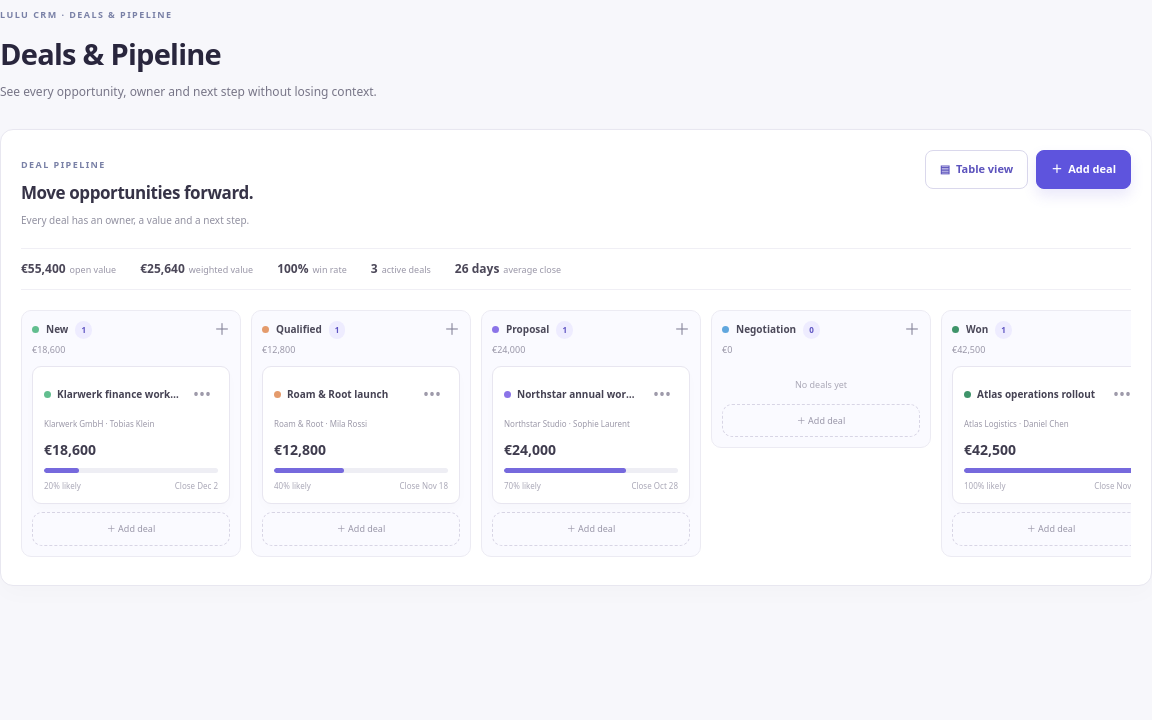
Deals & Pipeline page › adds a deal to the column it was started from
The image size is (1152, 720).
Expected: the element "Proposal" is shown, [481,310,701,557]
Click the button named "Add deal to Proposal" at (682, 329), box [674,321,690,337]
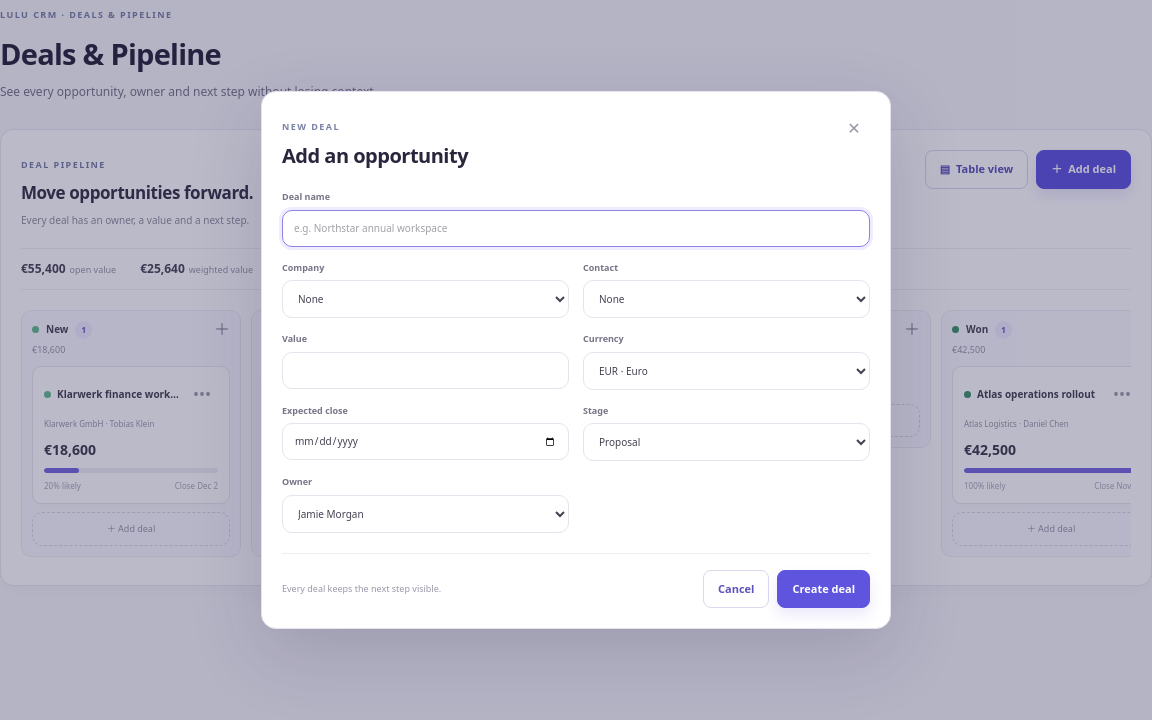
# Validation first: nothing is sent without a name and a value.
Click the button "Create deal" at (824, 589), box [778,570,870,608]
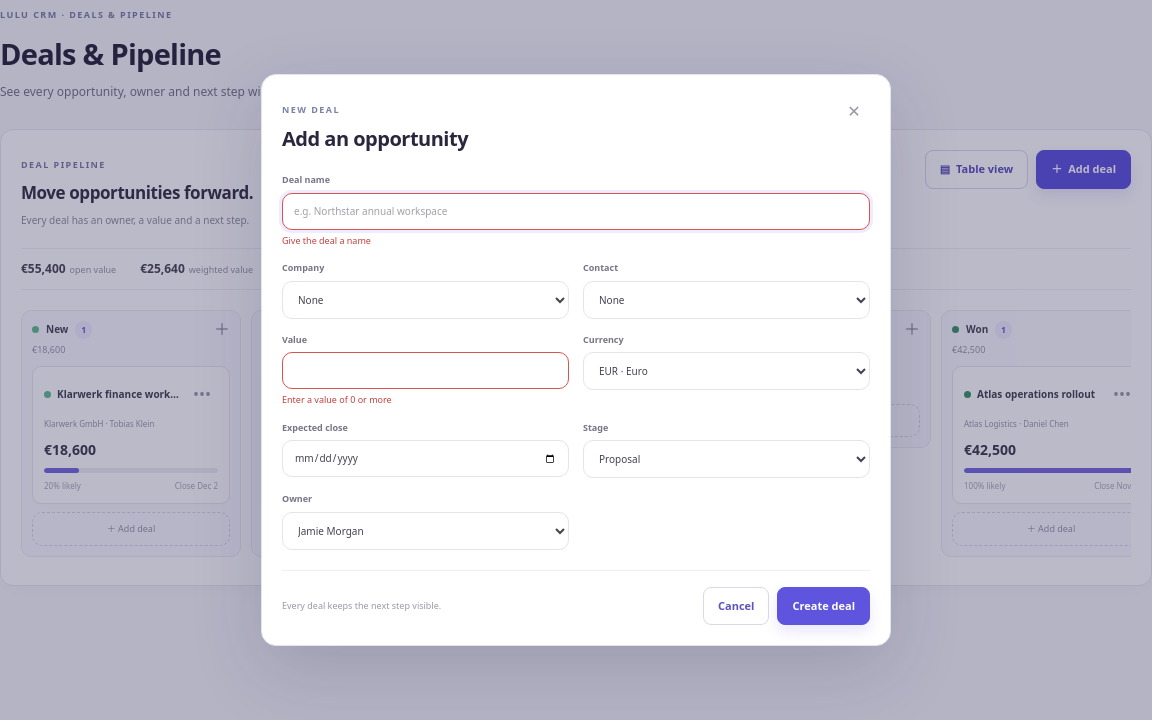
Expected: the text "Give the deal a name" is shown, [282,234,371,246]
Expected: the text "Enter a value of 0 or more" is shown, [282,393,392,406]
Type "Haus am Fluss renewal" into the field labelled "Deal name" at (576, 211), box [282,192,870,230]
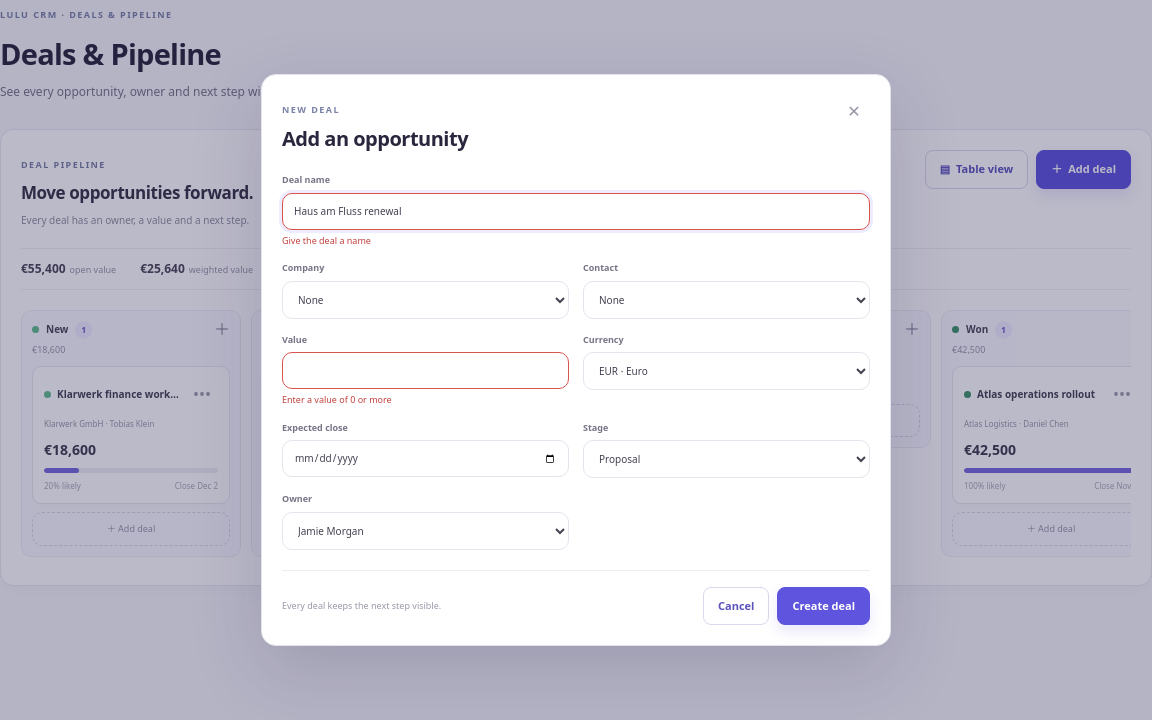
Type "8000" into the number field labelled "Value" at (426, 370), box [282,352,569,389]
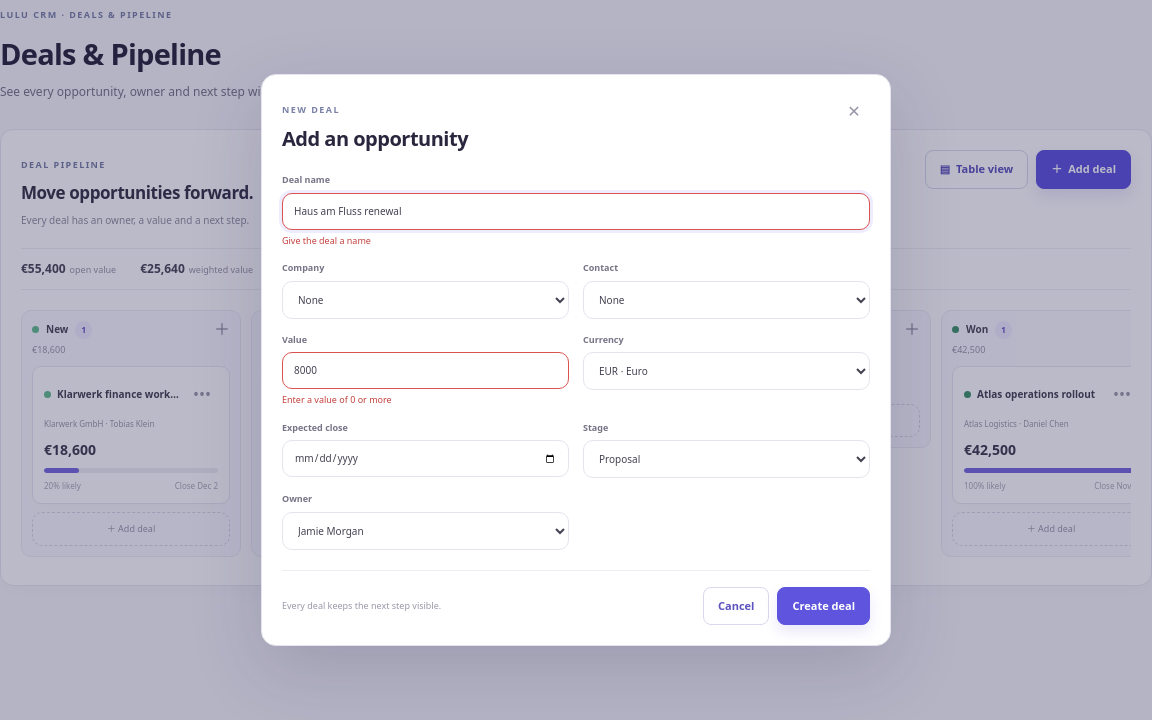
Click the button "Create deal" at (824, 606), box [778,586,870,625]
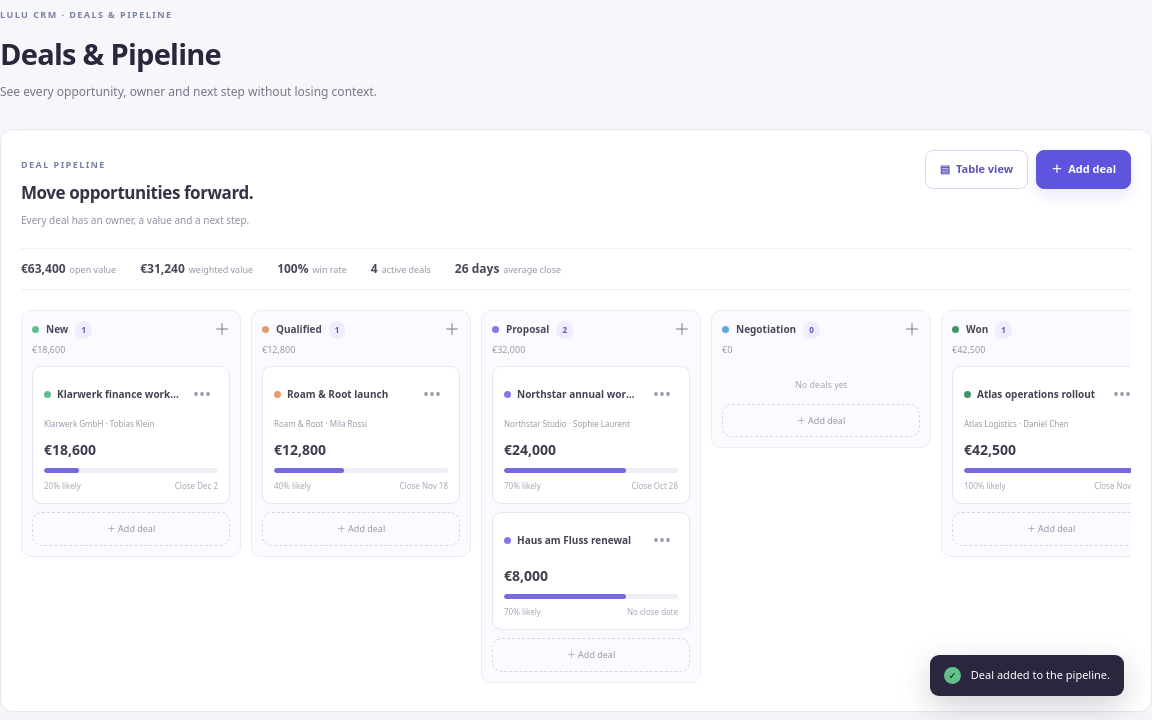
Expected: the button "Haus am Fluss renewal" is shown, [517,533,640,548]
Expected: the dialog is gone
Expected: the text "Deal added to the pipeline." is shown, [971,667,1110,682]
